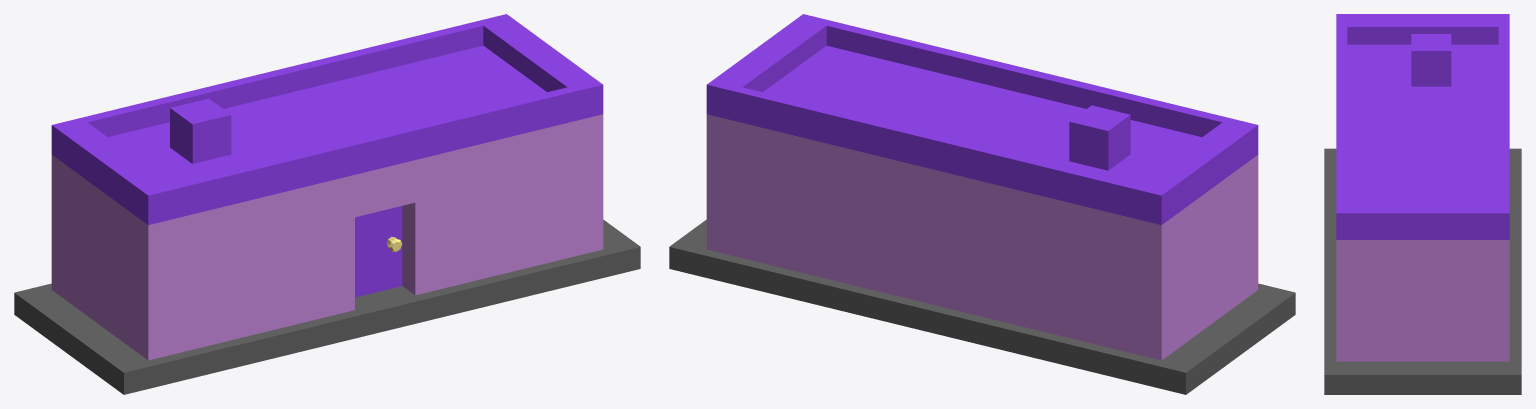
Rendered from Building 6.fbx.
3 renders of one model, left to right at view 1: azimuth 30°, elevation 25°; view 2: azimuth 150°, elevation 25°; view 3: azimuth 270°, elevation 25°, orthographic. The views are drawn at different scales.
Parts seen in each view (by area): view 1: Cube; view 2: Cube; view 3: Cube.
Part boxes in pixels (bbox=[...]): Cube: bbox=[14, 14, 640, 394]; Cube: bbox=[669, 14, 1295, 394]; Cube: bbox=[1324, 14, 1521, 394].
Size of the model in its own units: 1079 by 413 by 397.
